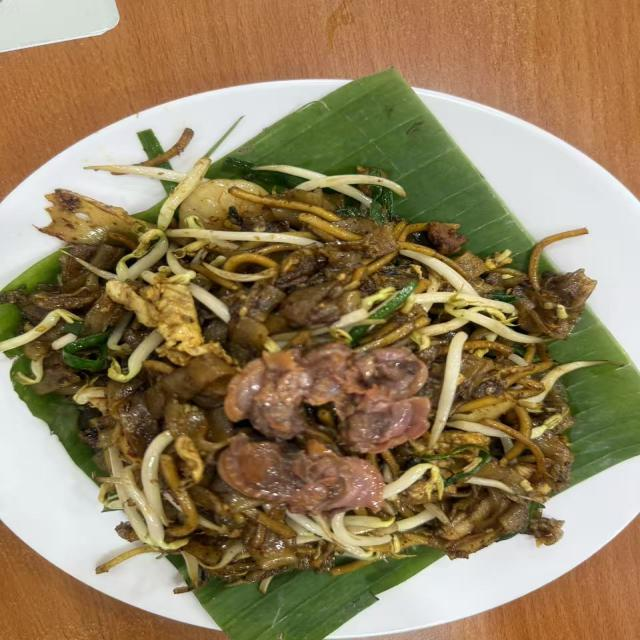Char Kway Teow: (14, 147, 592, 606)
